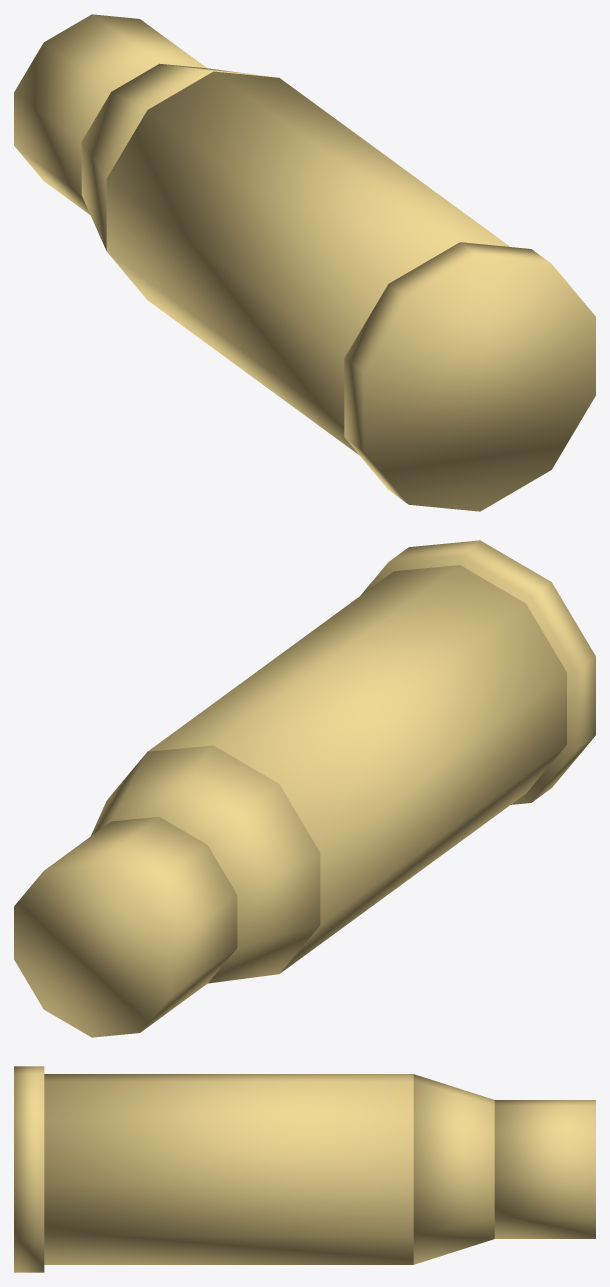
File: fx_casing.glb
3 views of the same model, one above another, from view 1: azimuth 30°, elevation 25°; view 2: azimuth 150°, elevation 25°; view 3: azimuth 270°, elevation 25° (orthographic). The views are drawn at different scales.
Parts seen in each view (by area): view 1: fx_casing; view 2: fx_casing; view 3: fx_casing.
Boxes of the visible parts, bbox=[...] form: fx_casing: bbox=[14, 14, 595, 511]; fx_casing: bbox=[14, 540, 595, 1037]; fx_casing: bbox=[14, 1066, 595, 1272].
Bounding box in the file's own units: 0.00989 × 0.0104 × 0.0287.
